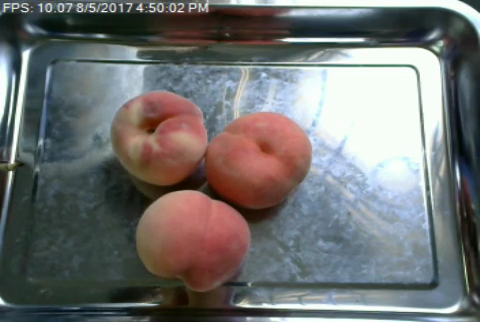Peach: (135, 188, 249, 290), (205, 111, 310, 210), (111, 89, 207, 187)
